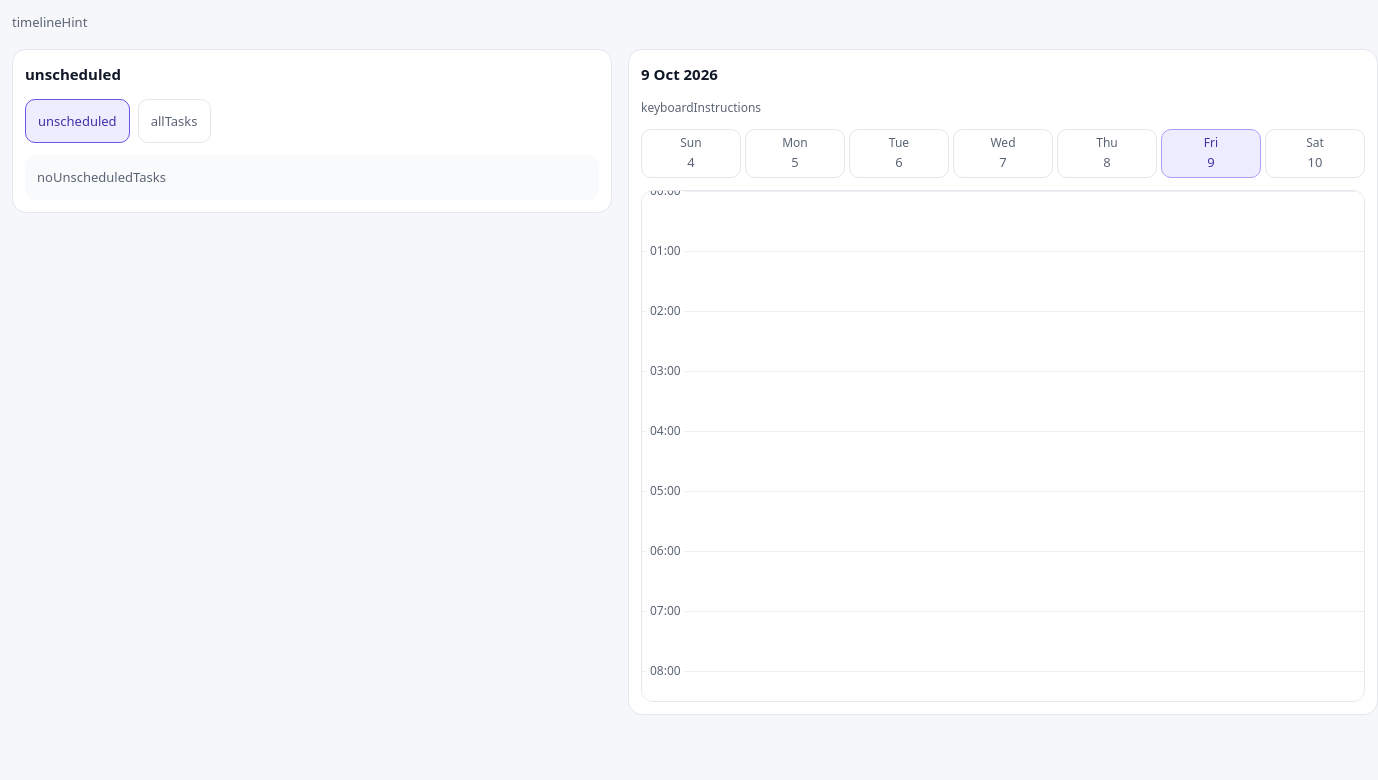
Test: TimelineBoard › shows every scheduled block time and its date when a task has multiple blocks
Click the button "allTasks".
click(174, 121)  # box [138,99,210,143]
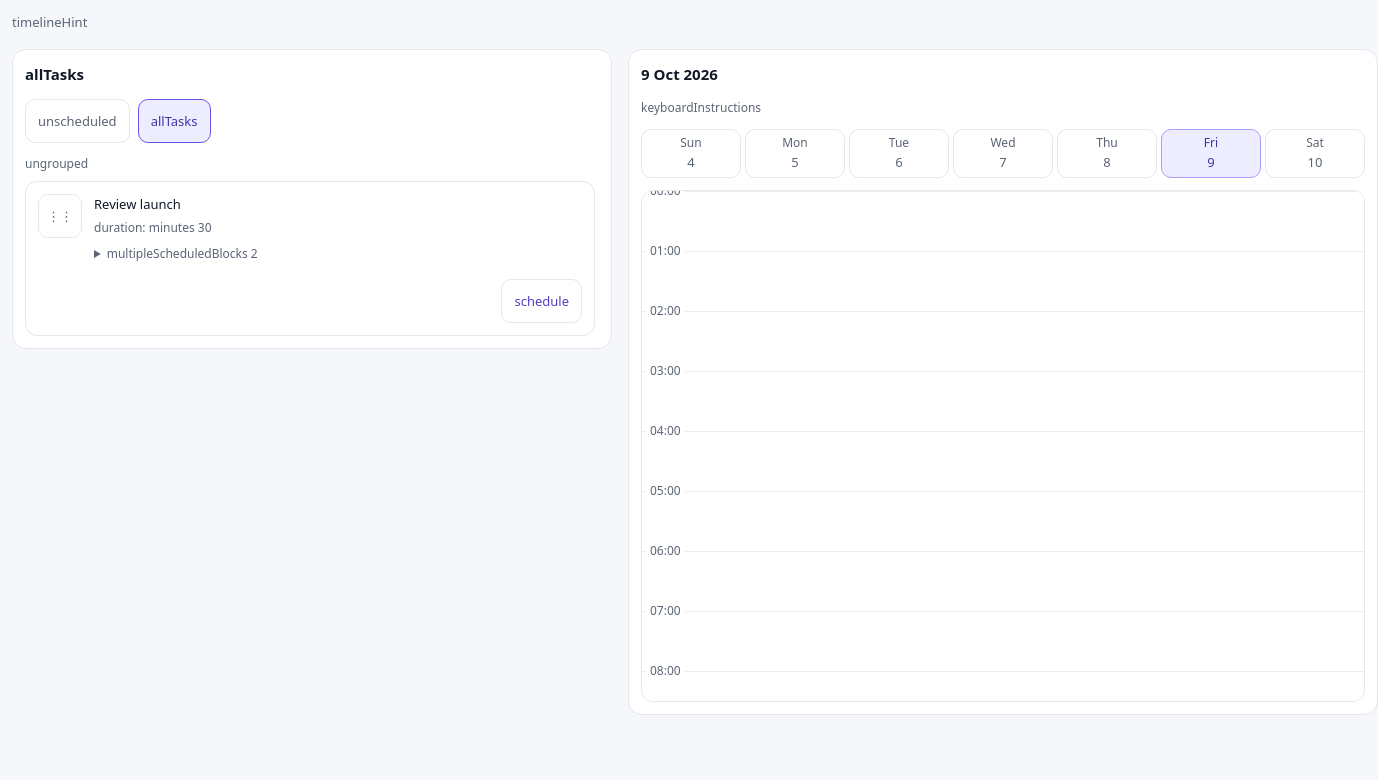
Click the heading "multipleScheduledBlocks 2".
click(182, 254)  # box [107,245,258,262]
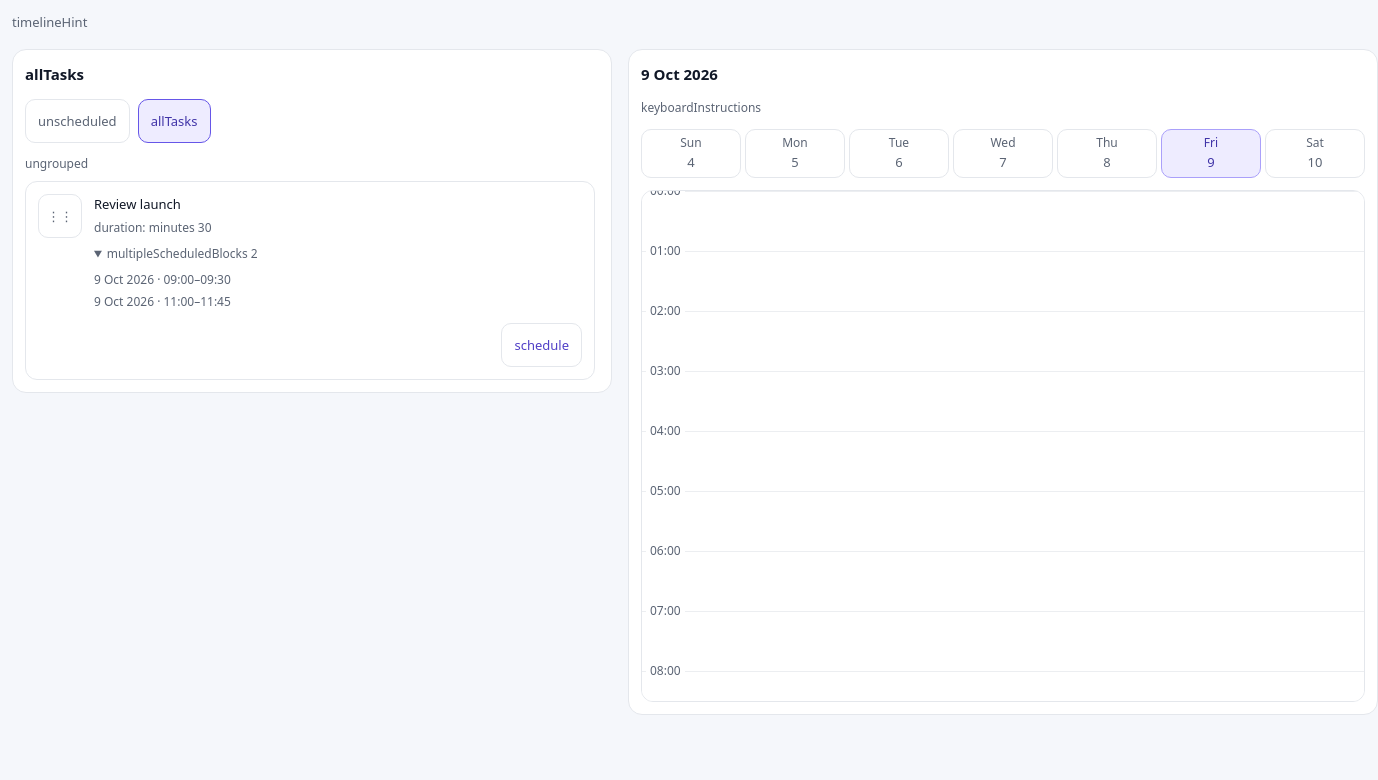
Expected: the heading "multipleScheduledBlocks 2" is shown, [107,245,258,262]
Expected: the text "9 Oct 2026 · 09:00–09:30" is shown, [94,271,231,288]
Expected: the text "9 Oct 2026 · 11:00–11:45" is shown, [94,293,231,310]
